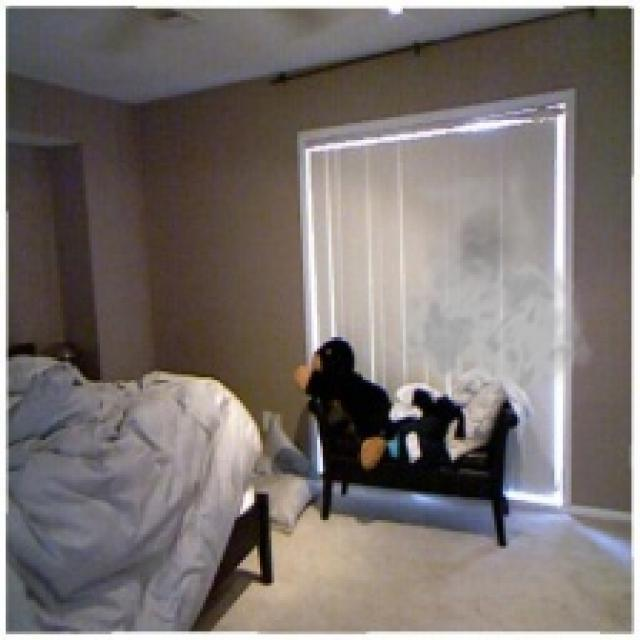Smoke: (377, 154, 594, 409)
